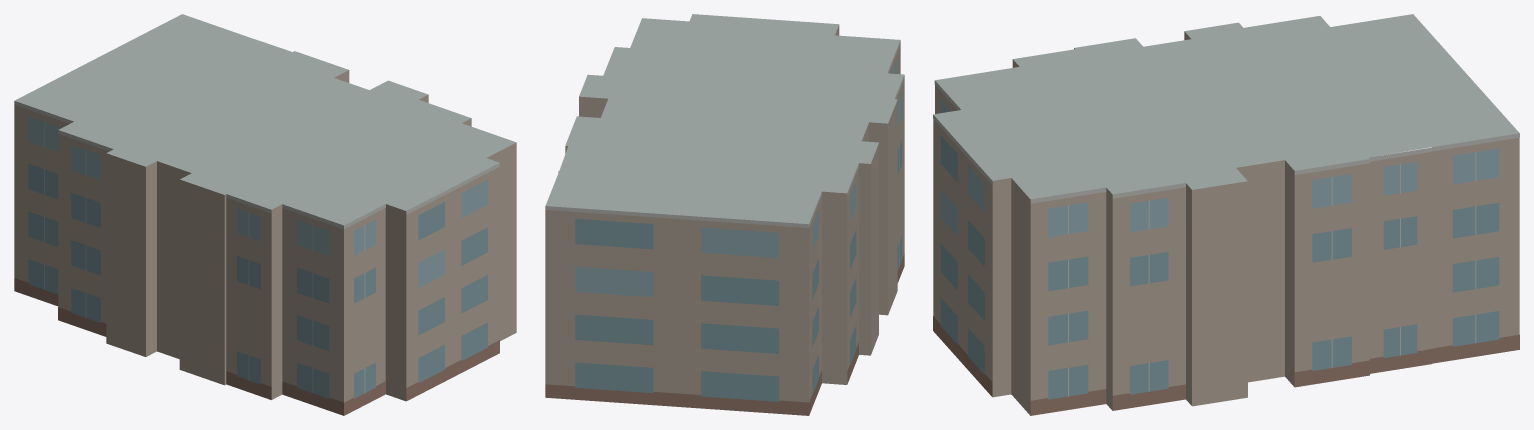
File: survey-upis-32997281.glb
3 views of the same model, side by side, from view 1: azimuth 30°, elevation 25°; view 2: azimuth 150°, elevation 25°; view 3: azimuth 270°, elevation 25° (orthographic). The views are drawn at different scales.
Visible parts, largest first — view 1: survey-upis-32997281.tmp; view 2: survey-upis-32997281.tmp; view 3: survey-upis-32997281.tmp.
Part boxes in pixels (x1=…): survey-upis-32997281.tmp: x1=14, y1=14, x2=516, y2=415; survey-upis-32997281.tmp: x1=545, y1=14, x2=904, y2=415; survey-upis-32997281.tmp: x1=933, y1=14, x2=1519, y2=415.
Bounding box in the file's own units: 22.42 × 12.2 × 29.97.
